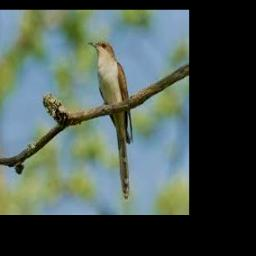Cuckoo: (87, 41, 133, 199)
